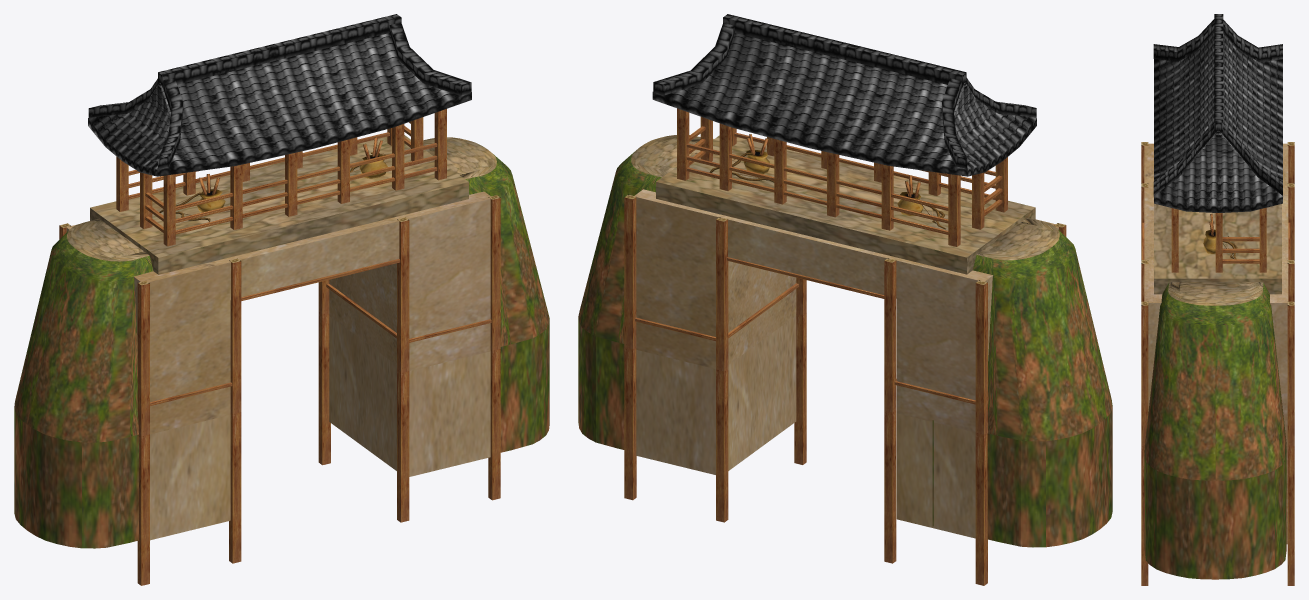
File: wall_gate.dae
3 renders of one model, left to right at view 1: azimuth 30°, elevation 25°; view 2: azimuth 150°, elevation 25°; view 3: azimuth 270°, elevation 25°, orthographic. The views are drawn at different scales.
Visible parts, largest first — view 1: wall_gate; view 2: wall_gate; view 3: wall_gate.
Part boxes in pixels (x1,y1,x2,y2): wall_gate: (14,14,549,585); wall_gate: (578,14,1112,585); wall_gate: (1141,14,1294,585).
Size of the model in its own units: 36.63 by 10.24 by 32.12.
